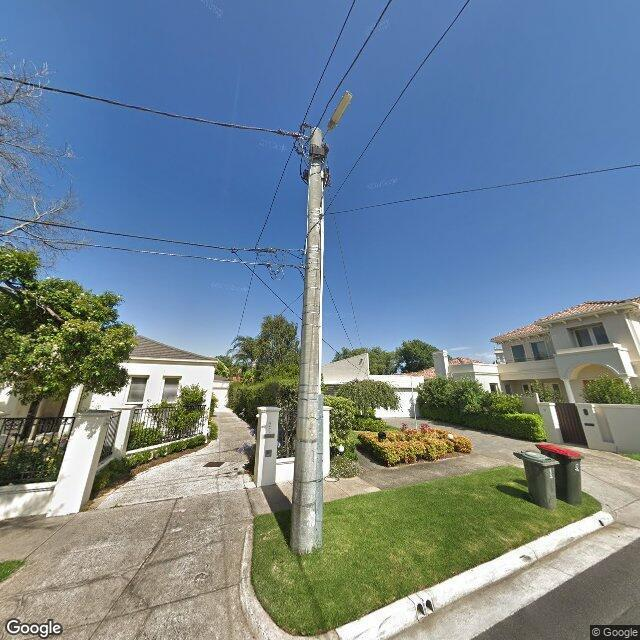concrete-pole: (288, 127, 324, 553)
streetlight: (321, 90, 354, 145)
